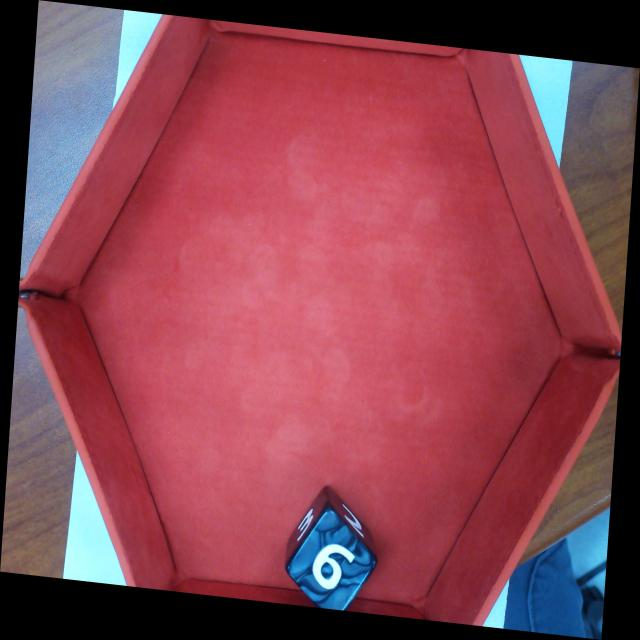dice: (285, 503, 378, 611)
